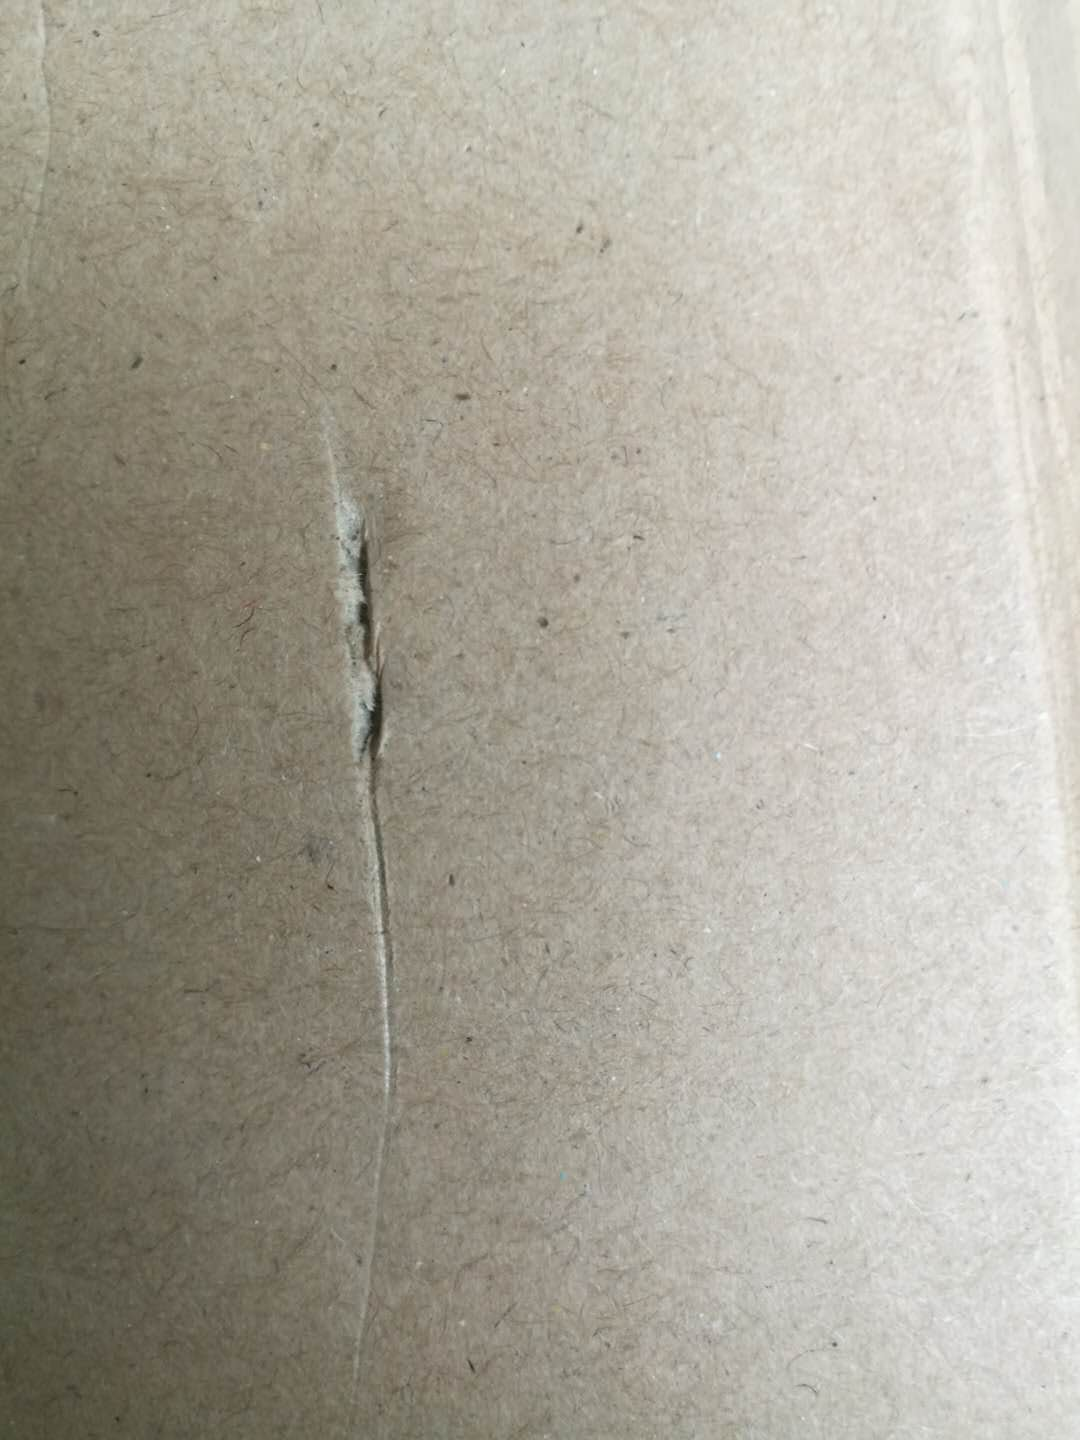defect: (235, 384, 483, 1412), (939, 1, 1080, 927), (17, 2, 71, 313)
